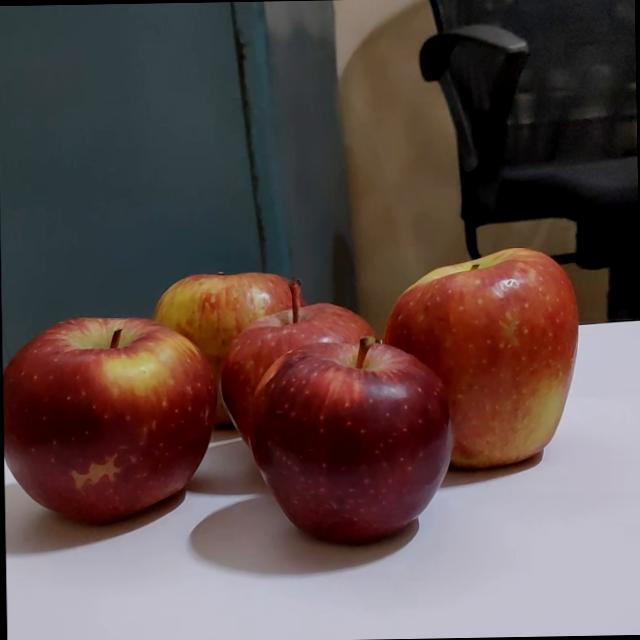apple: (1, 312, 238, 526), (383, 236, 595, 475), (255, 323, 470, 547), (225, 268, 398, 480), (154, 258, 310, 438)
